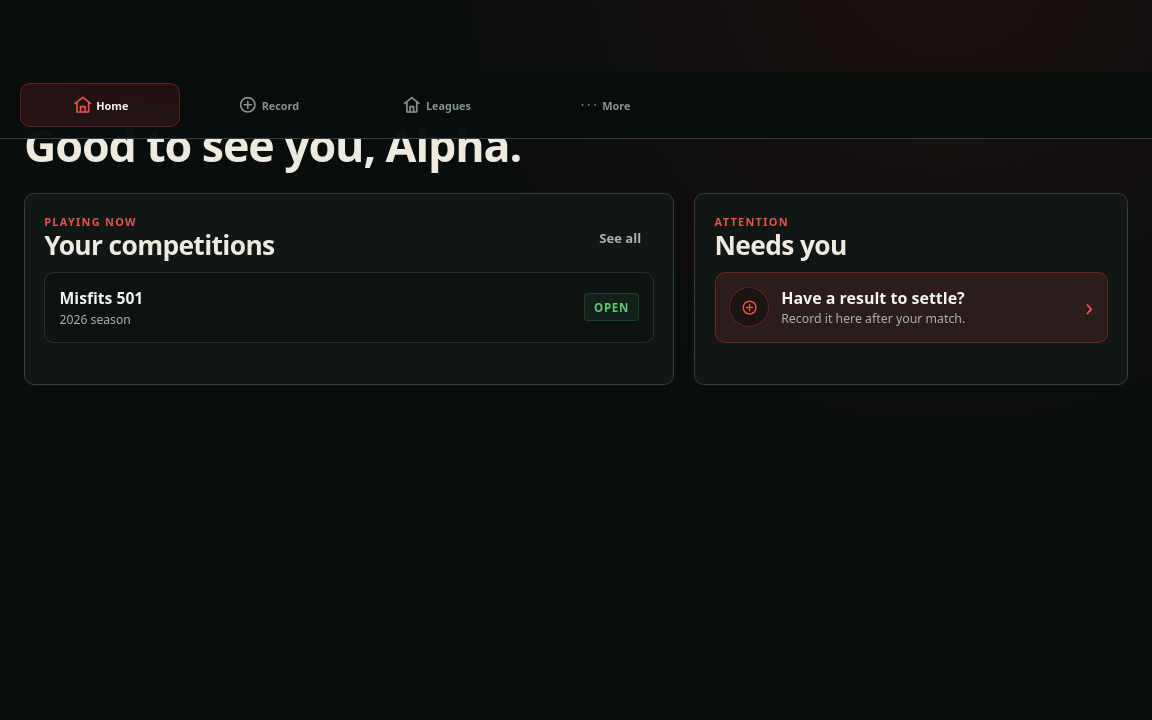
private member navigation › keeps global destinations club-first and competition views local to the selected league
The image size is (1152, 720).
Check: the button "Fixtures" is not shown
Step 1. Click the button "Leagues" → (436, 105), box top-left (356, 83), bottom-right (516, 127)
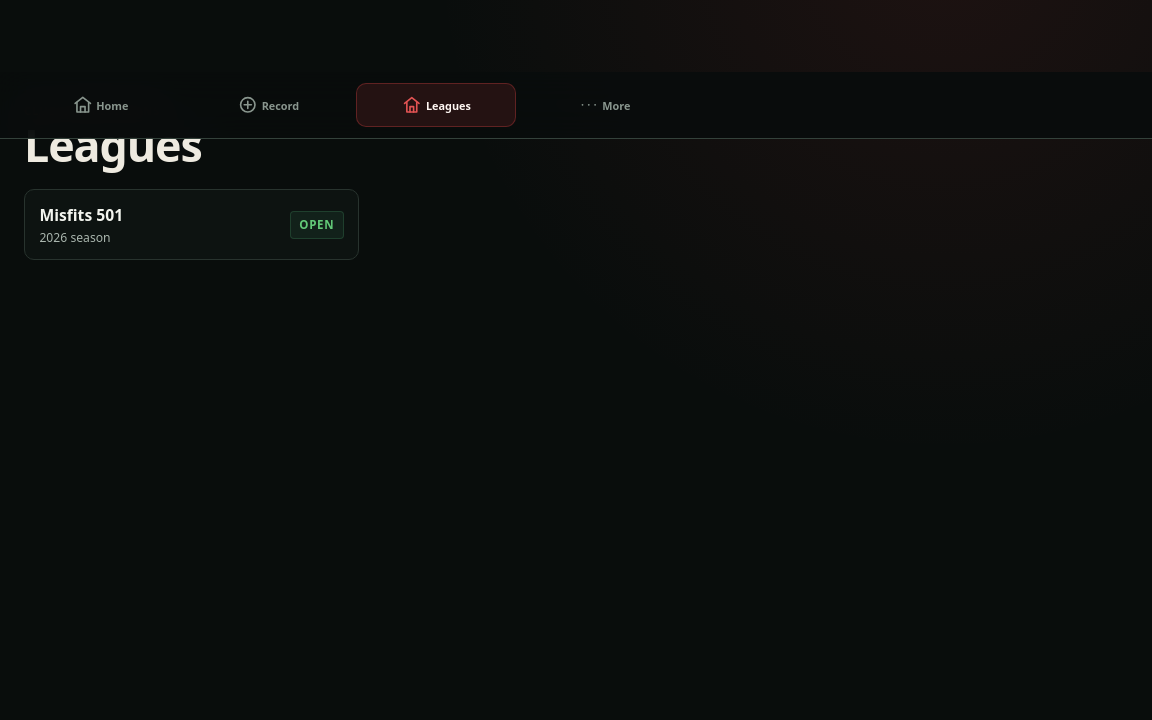
Step 2. Click the button "Misfits 501 2026 season OPEN" → (81, 215), box top-left (24, 189), bottom-right (360, 260)
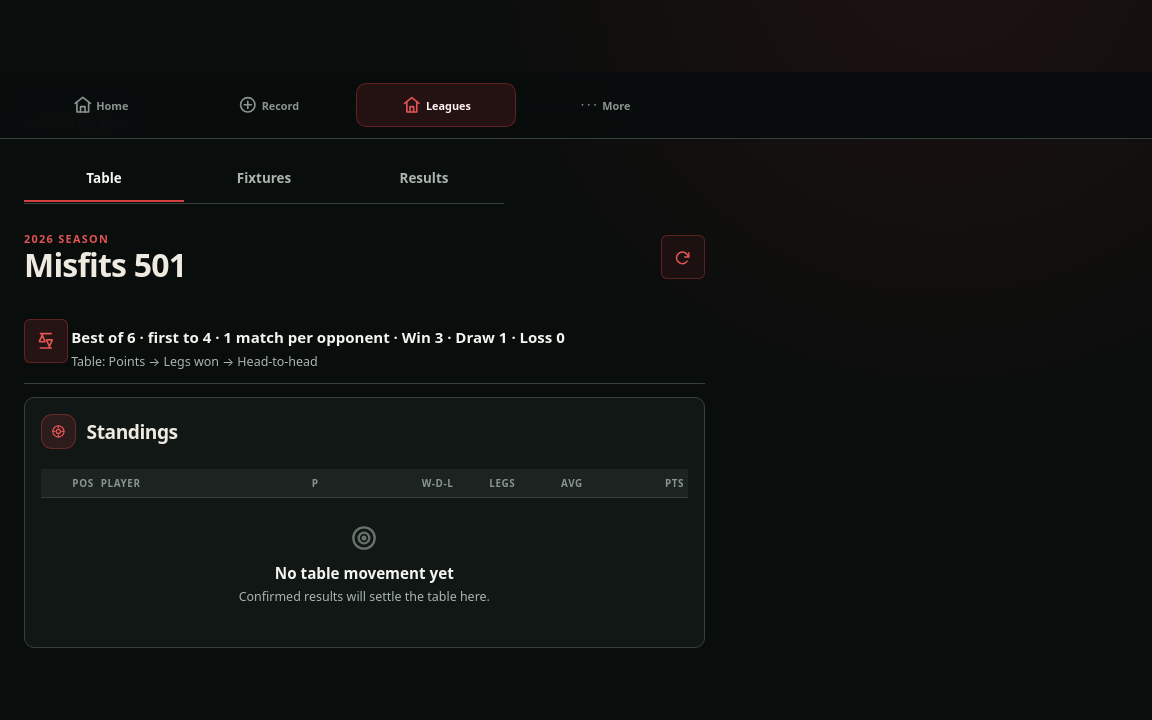
Check: the navigation bar named "Misfits 501 views" is shown, box top-left (24, 156), bottom-right (504, 204)
